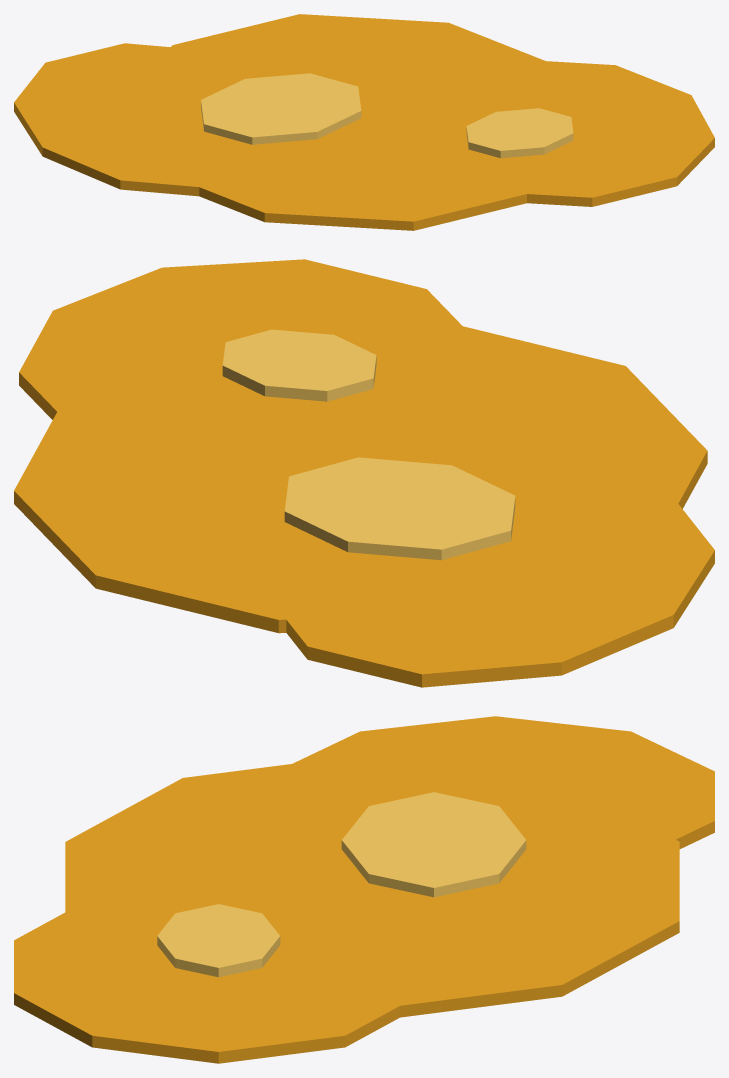
Rendered from env_r10_honey_puddle.glb.
3 renders of one model, top to bottom at view 1: azimuth 30°, elevation 25°; view 2: azimuth 150°, elevation 25°; view 3: azimuth 270°, elevation 25°, orthographic. The views are drawn at different scales.
Visible parts, largest first — view 1: env_r10_honey_puddle; view 2: env_r10_honey_puddle; view 3: env_r10_honey_puddle.
Boxes of the visible parts, x1,y1,x2,y2 form: env_r10_honey_puddle: (14,14,714,230); env_r10_honey_puddle: (14,259,714,687); env_r10_honey_puddle: (14,716,714,1063).
Bounding box in the file's own units: 3.4 × 0.1 × 3.
Materials: 1 (1 with a texture image).
